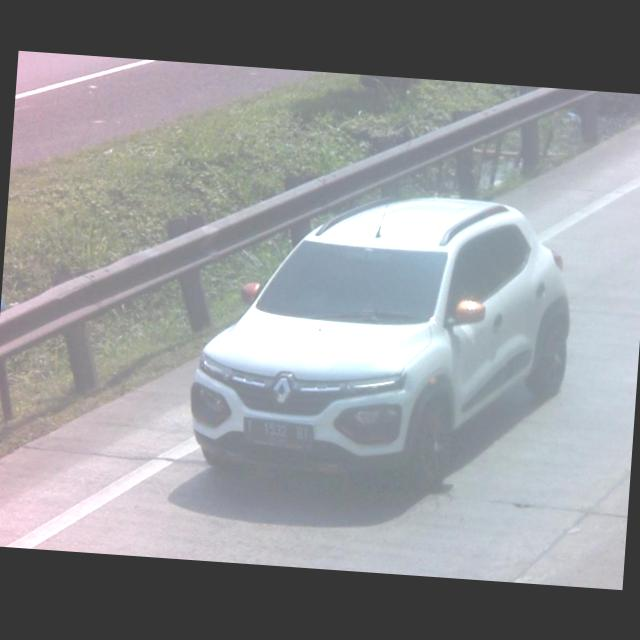plate: (238, 413, 318, 450)
